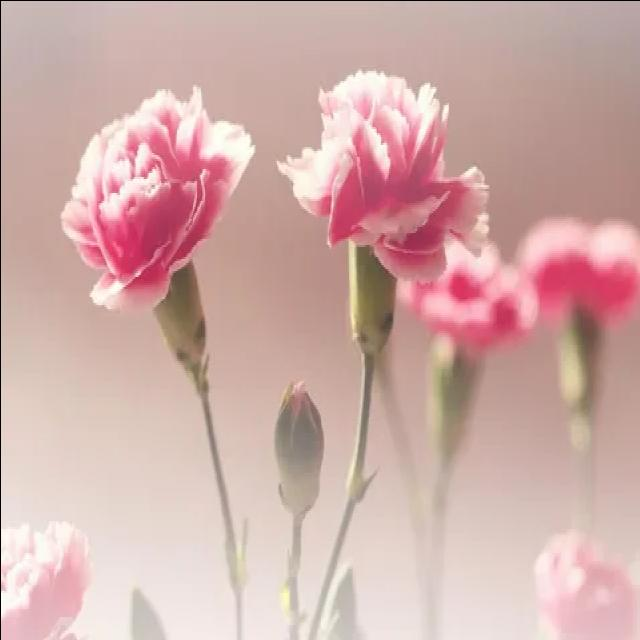carnation: (277, 42, 496, 360), (58, 51, 256, 380)
